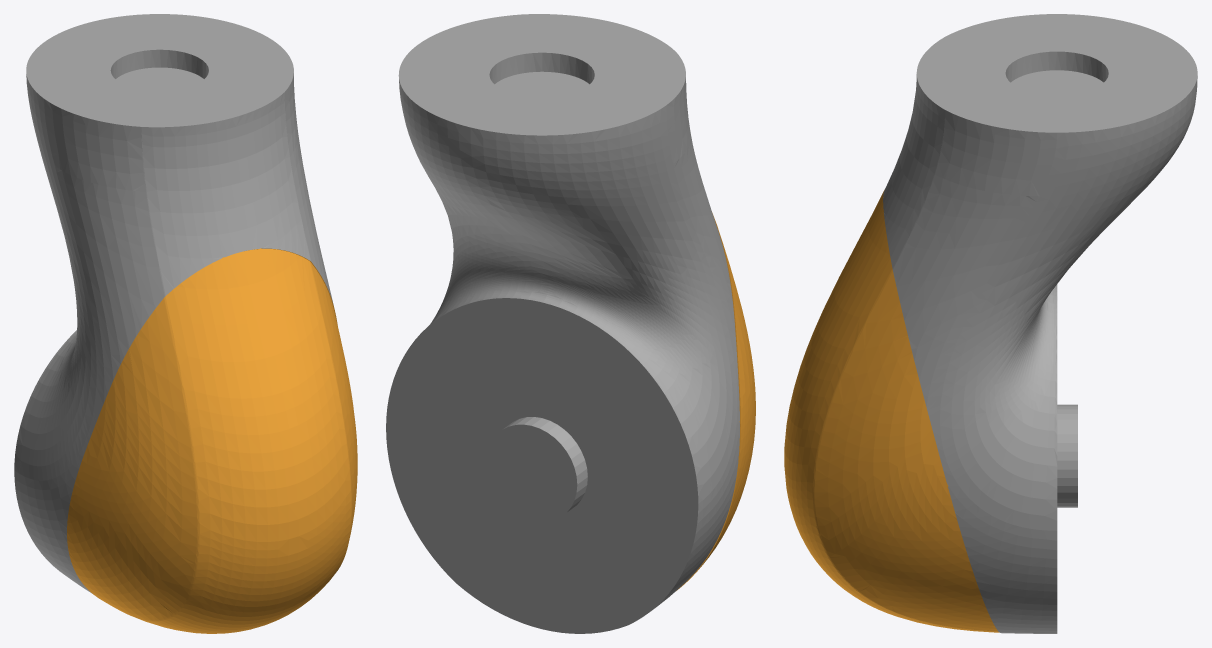
The picture shows the model from 3 angles, left to right: view 1: azimuth 30°, elevation 25°; view 2: azimuth 150°, elevation 25°; view 3: azimuth 270°, elevation 25°; orthographic projection. The views are drawn at different scales.
Parts seen in each view (by area): view 1: link2_0, link2_1; view 2: link2_1, link2_0; view 3: link2_1, link2_0.
Boxes of the visible parts, x1=… form: link2_0: x1=67, y1=248, x2=357, y2=633; link2_1: x1=14, y1=14, x2=333, y2=593; link2_1: x1=386, y1=14, x2=739, y2=633; link2_0: x1=676, y1=213, x2=755, y2=590; link2_1: x1=883, y1=14, x2=1197, y2=633; link2_0: x1=784, y1=190, x2=999, y2=632.
Size of the model in its own units: 0.171 by 0.29 by 0.2001.
